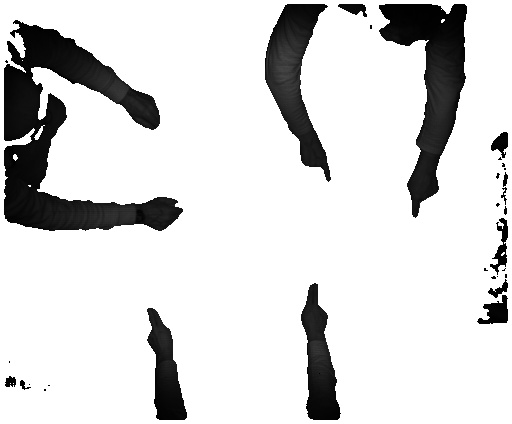fist: (125, 91, 159, 135), (145, 192, 183, 231)
hand: (400, 168, 439, 223), (296, 280, 327, 337), (144, 304, 175, 360), (299, 138, 335, 183)
